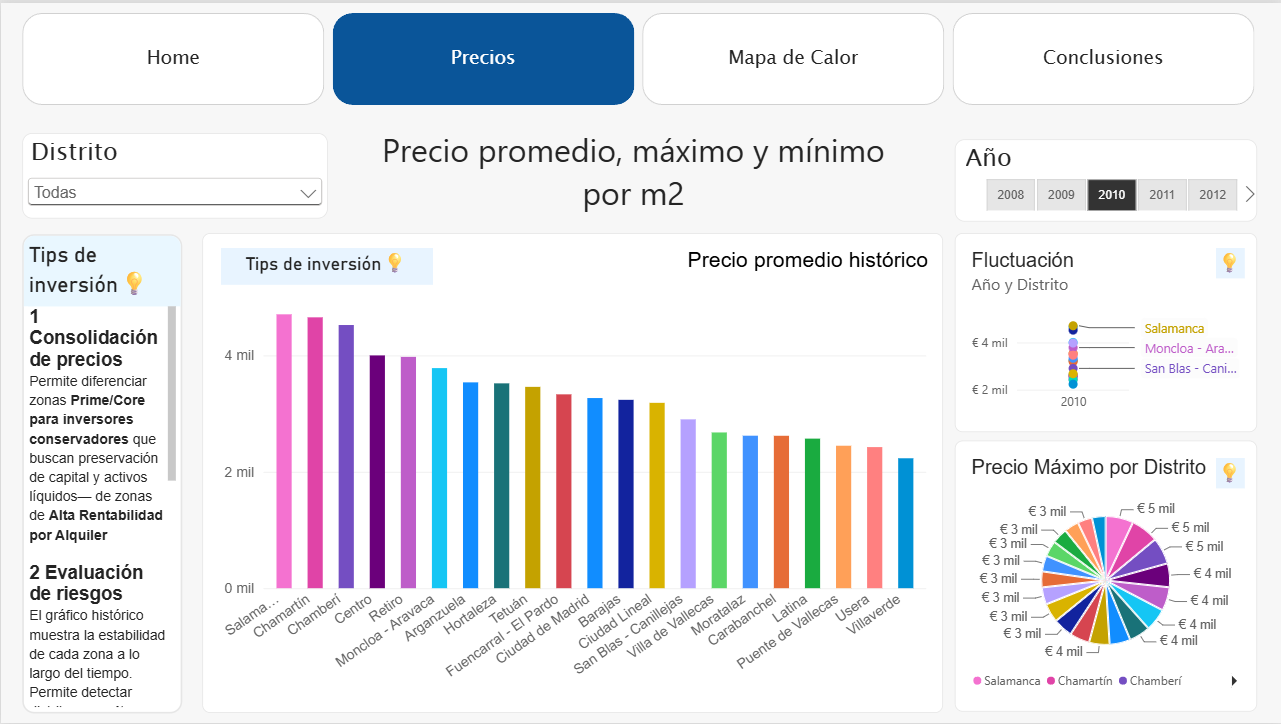

What the dashboard file says about the page in this screenshot:
{"tool":"powerbi","page":{"name":"Precios","canvas":[1280,720],"ordinal":1},"visuals":[{"type":"textbox","box":[21.1,125.6,1222.2,104.4],"z":0},{"type":"columnChart","title":"Precio promedio histórico ","fields":{"Category":["DimDistrito.Distrito"],"Series":["FactPrecios.Distrito"],"Y":["FactPrecios.Precio Promedio Anual"]},"box":[201.1,230,741.1,480],"z":1000},{"type":"lineChart","title":"Fluctuación","fields":{"Category":["DimFecha.Año"],"Series":["DimDistrito.Distrito"],"Y":["FactPrecios.Precio Promedio"]},"box":[953.3,230,302.2,198.9],"z":2000},{"type":"pieChart","title":"Precio Máximo por Distrito","fields":{"Category":["FactPrecios.Distrito"],"Y":["FactPrecios.Precio Máximo Distrito"]},"box":[953.3,437.8,302.2,271.1],"z":4000},{"type":"textbox","title":"Tips de inversión💡","box":[21.1,231.1,160,478.9],"z":6000},{"type":"actionButton","title":"Tips de inversión💡","box":[220,245,212.2,36.7],"z":7000},{"type":"textbox","box":[21.1,133.3,160,51.1],"z":8000},{"type":"actionButton","title":"💡","box":[1214.4,454.4,28.9,30],"z":9000},{"type":"actionButton","title":"💡","box":[1214.4,244.4,28.9,30],"z":10000},{"type":"slicer","fields":{"Values":["DimDistrito.Distrito"]},"box":[21.1,130,305.6,85.6],"z":10001},{"type":"pageNavigator","box":[21.1,10,1234.4,92.2],"z":10002},{"type":"slicer","title":"Año","fields":{"Values":["DimFecha.Año"]},"box":[953.3,136.7,302.2,82.2],"z":10003}]}

Visuals, with their boxes in screenshot pixels (x1, y1, x2, y2), scaled from the page's 1280x720 canvas onto the 1281x724 screenshot:
textbox: select_region(21, 126, 1244, 231)
"Precio promedio histórico " columnChart: select_region(201, 231, 943, 714)
"Fluctuación" lineChart: select_region(954, 231, 1256, 431)
"Precio Máximo por Distrito" pieChart: select_region(954, 440, 1256, 713)
"Tips de inversión💡" textbox: select_region(21, 232, 181, 714)
"Tips de inversión💡" actionButton: select_region(220, 246, 433, 283)
textbox: select_region(21, 134, 181, 185)
"💡" actionButton: select_region(1215, 457, 1244, 487)
"💡" actionButton: select_region(1215, 246, 1244, 276)
slicer - DimDistrito.Distrito: select_region(21, 131, 327, 217)
pageNavigator: select_region(21, 10, 1256, 103)
"Año" slicer: select_region(954, 137, 1256, 220)
